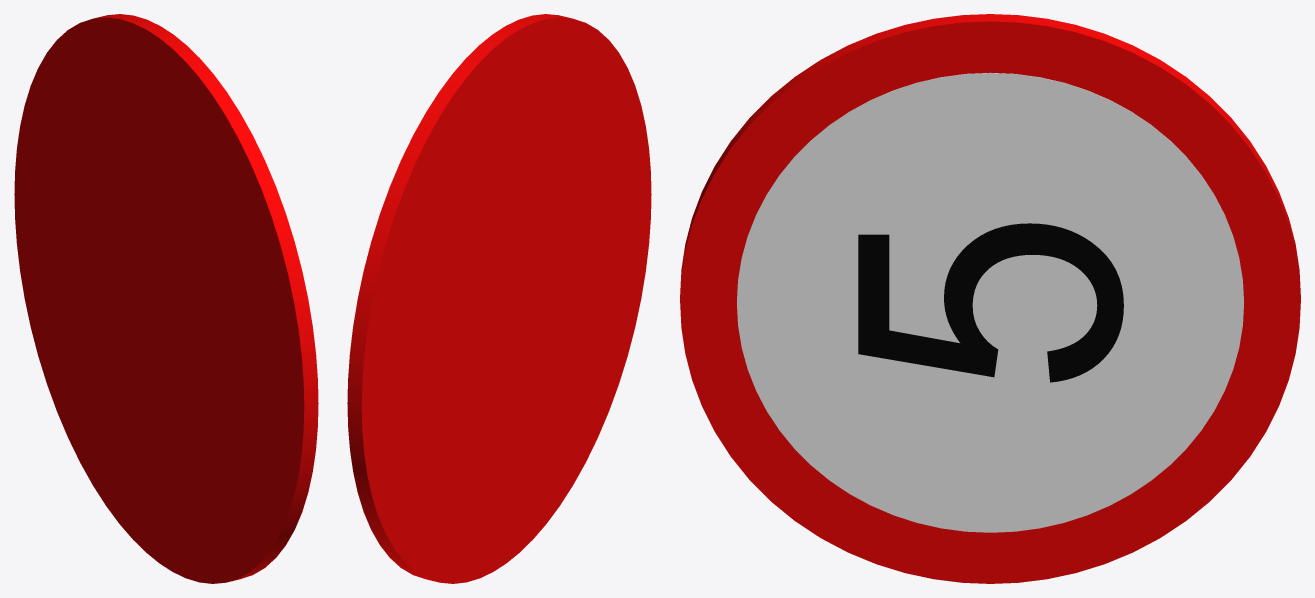
3 views of the same model, side by side, from view 1: azimuth 30°, elevation 25°; view 2: azimuth 150°, elevation 25°; view 3: azimuth 270°, elevation 25° (orthographic). The views are drawn at different scales.
Parts seen in each view (by area): view 1: 限速5; view 2: 限速5; view 3: 限速5.
Part boxes in pixels (left/top/right/bottom): 限速5: left=14, top=14, right=318, bottom=583; 限速5: left=347, top=14, right=651, bottom=583; 限速5: left=680, top=14, right=1300, bottom=583.
Size of the model in its own units: 0.023 by 0.7737 by 0.7737.
